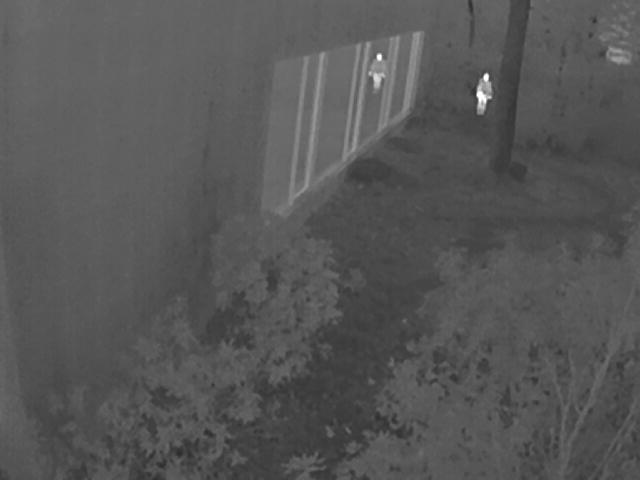person: (369, 52, 389, 93), (477, 71, 495, 112)
